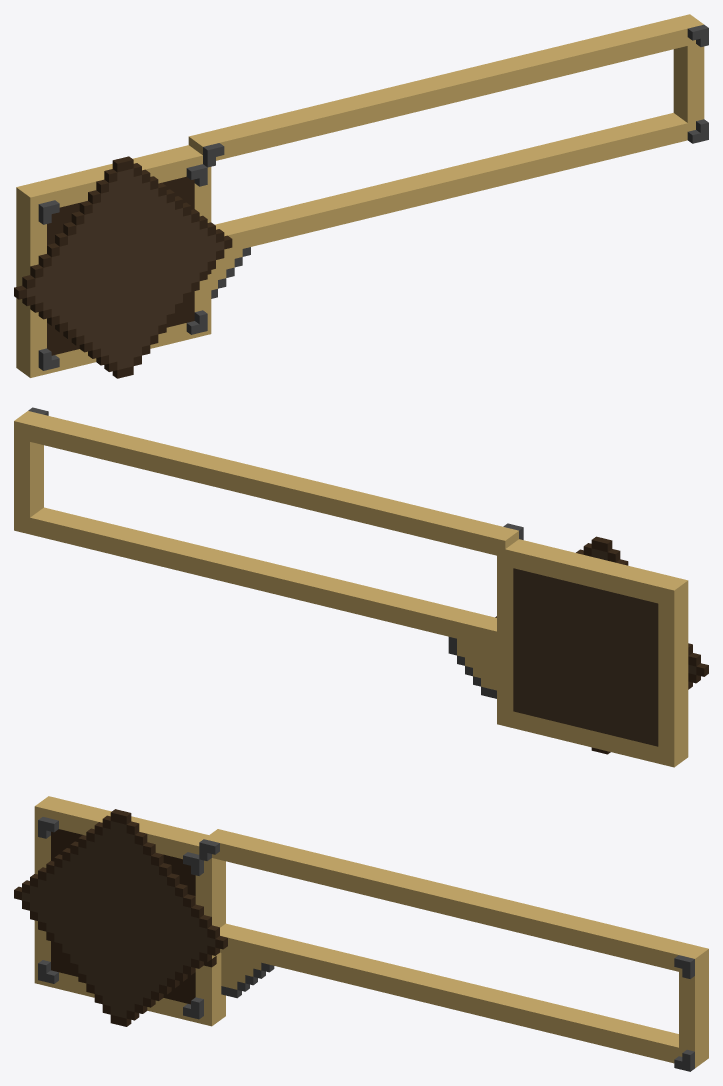
Rendered from enemy bar.obj.
The picture shows the model from 3 angles, top to bottom: view 1: azimuth 30°, elevation 25°; view 2: azimuth 150°, elevation 25°; view 3: azimuth 330°, elevation 25°; orthographic projection. The views are drawn at different scales.
Parts seen in each view (by area): view 1: enemy bar; view 2: enemy bar; view 3: enemy bar.
Part boxes in pixels (bbox=[...]): enemy bar: bbox=[14, 14, 708, 378]; enemy bar: bbox=[14, 407, 708, 767]; enemy bar: bbox=[14, 796, 708, 1071].
Size of the model in its own units: 84 by 25 by 4.
